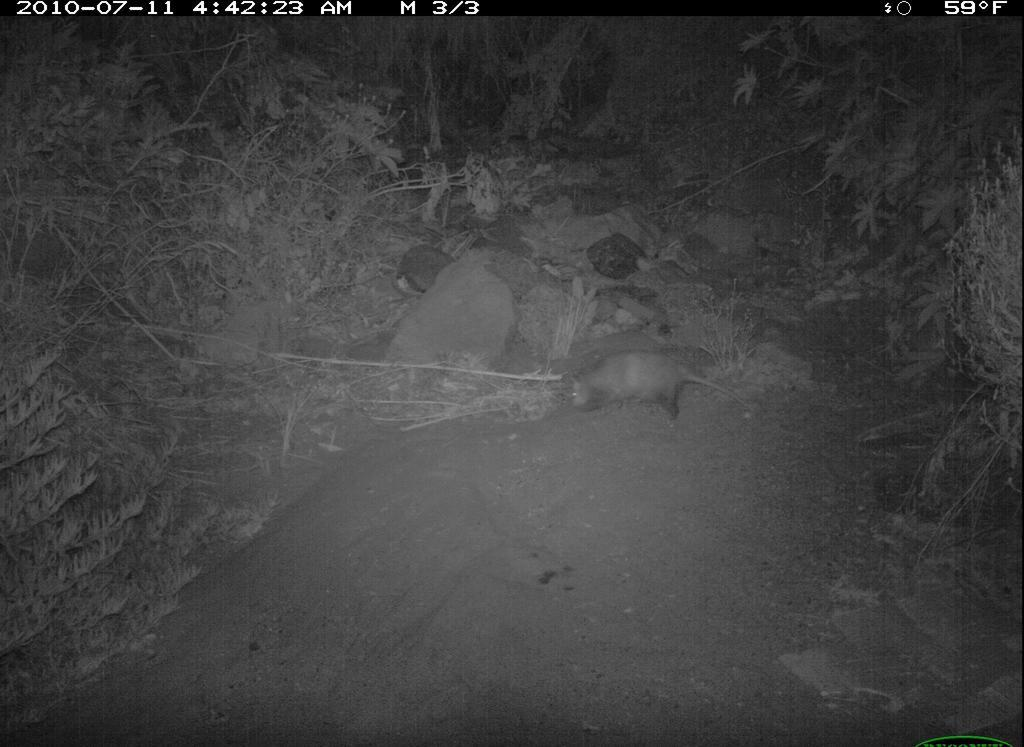opossum: (565, 344, 766, 440)
